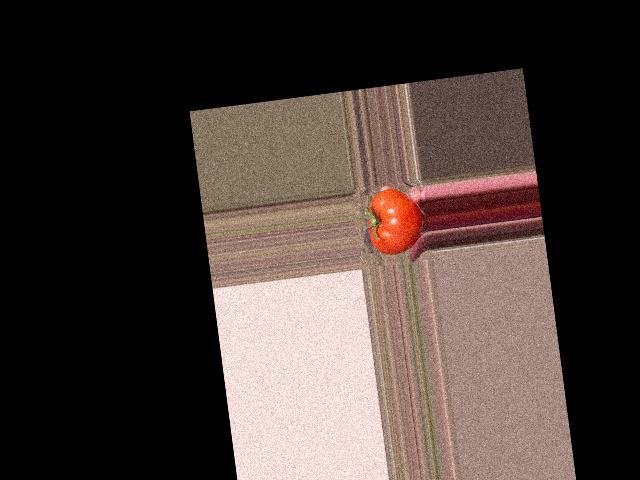tomato: (363, 185, 426, 257)
